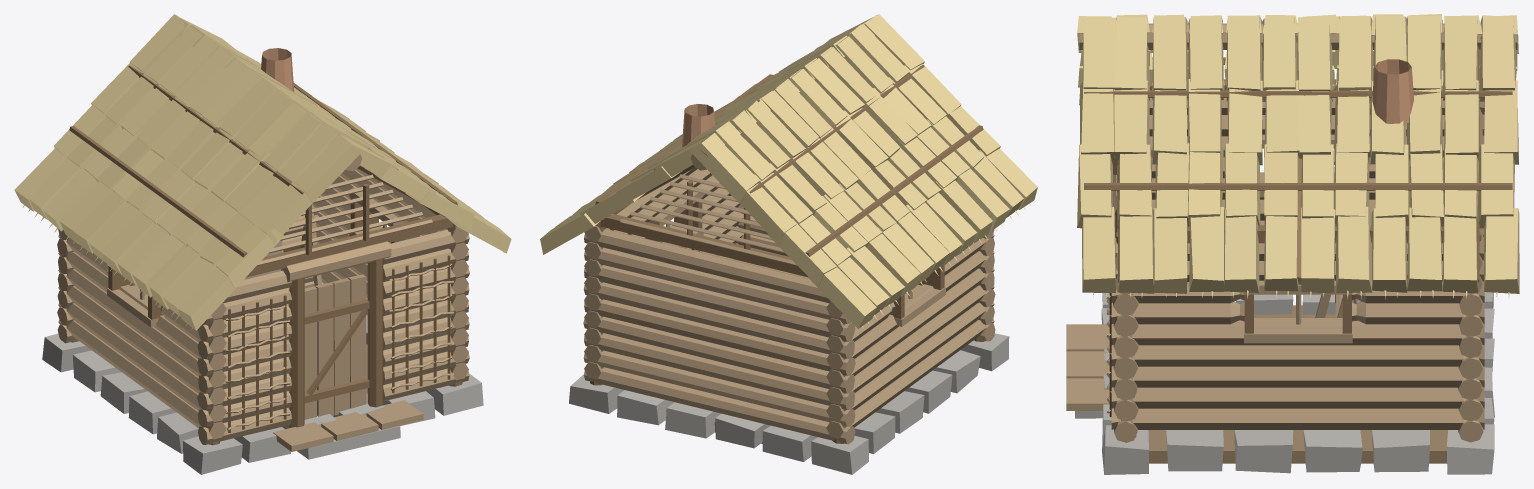
Rendered from building_drying_shed_complete.glb.
3 renders of one model, left to right at view 1: azimuth 30°, elevation 25°; view 2: azimuth 150°, elevation 25°; view 3: azimuth 270°, elevation 25°, orthographic. The views are drawn at different scales.
Visible parts, largest first — view 1: building_drying_shed_complete; view 2: building_drying_shed_complete; view 3: building_drying_shed_complete.
Part boxes in pixels (x1,y1,x2,y2): building_drying_shed_complete: (14,14,511,474); building_drying_shed_complete: (540,14,1037,474); building_drying_shed_complete: (1066,14,1519,474).
Bounding box in the file's own units: 3.97 × 3.56 × 3.89.
